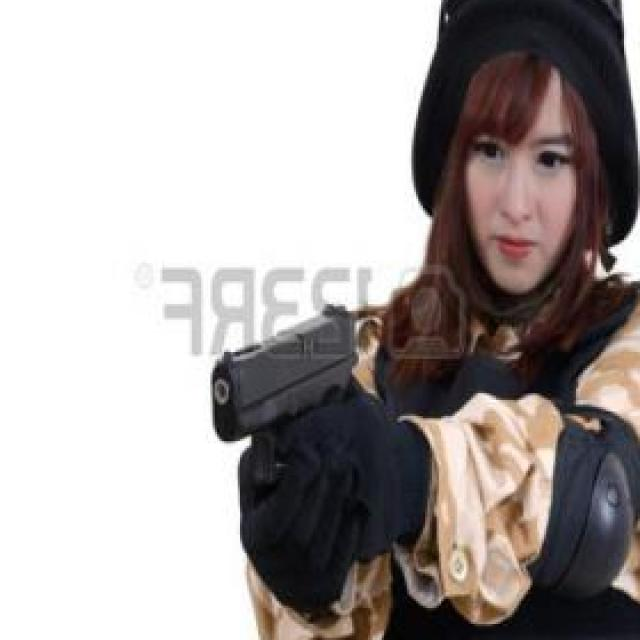pistol: (209, 306, 361, 492)
